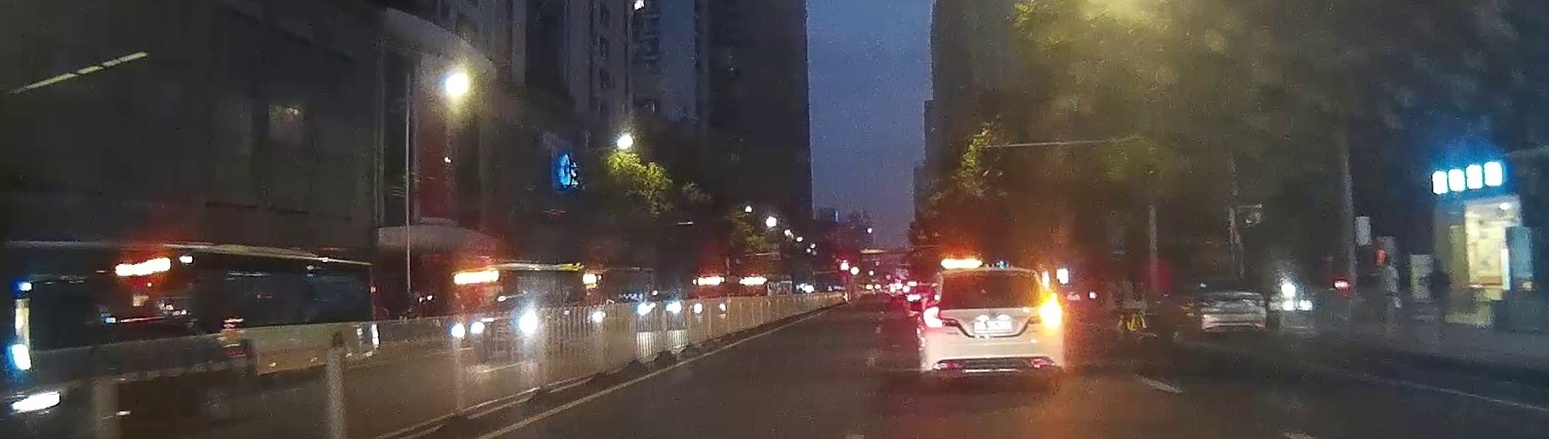L_light: (922, 306, 944, 329)
R_light: (1038, 299, 1062, 326)
T_light: (980, 268, 1003, 274)
night-no: (922, 267, 1063, 391)
